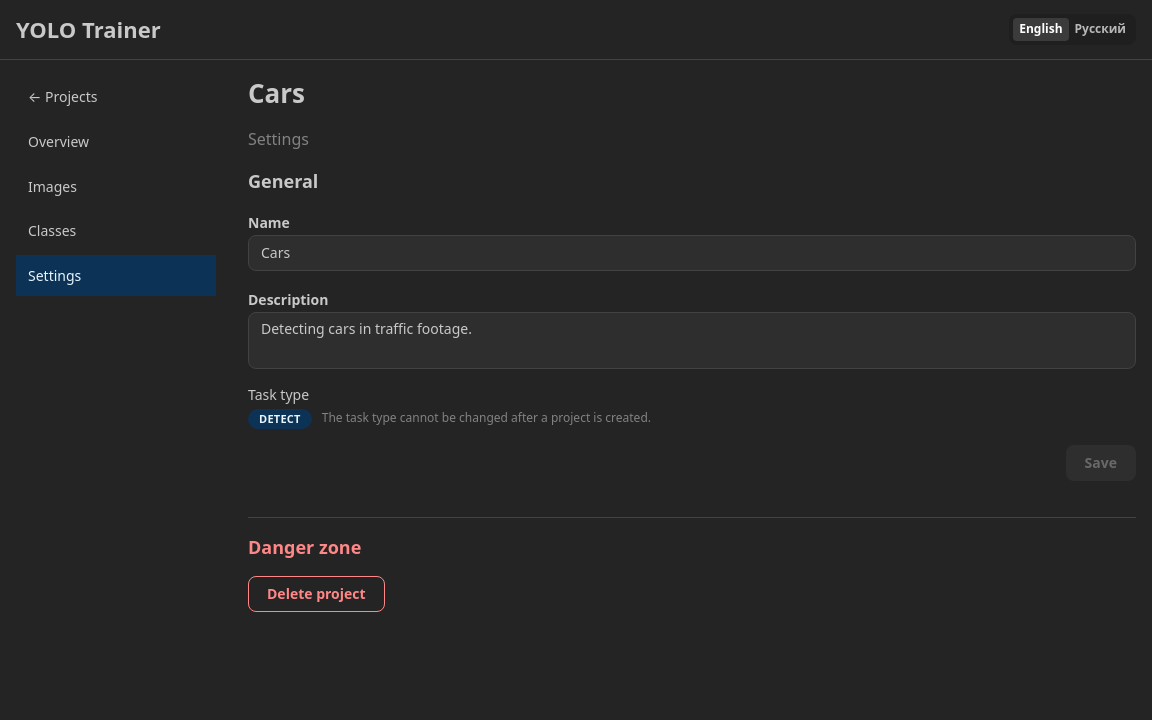
Test: ProjectSettingsPage › blocks submission with a translated message when the name is cleared
The image size is (1152, 720).
Clear the field labelled "Name" at point(692, 253), box [248,235,1136,271]
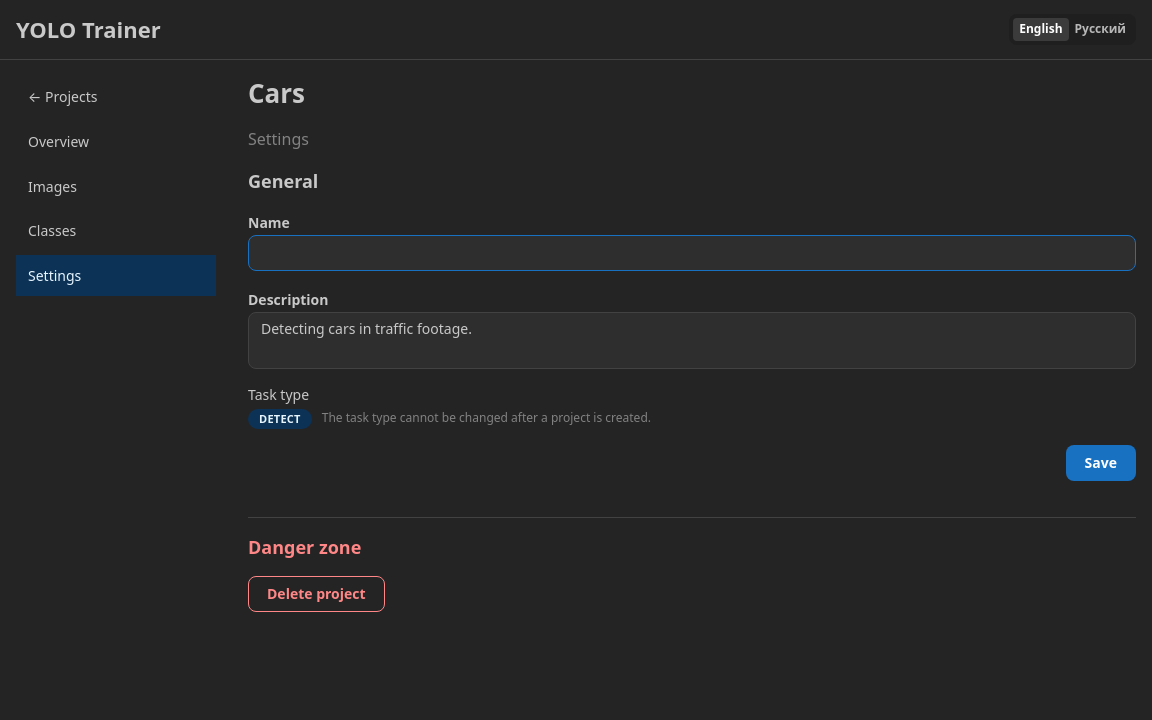
Click the button "Save" at point(1101, 463), box [1066,445,1136,481]
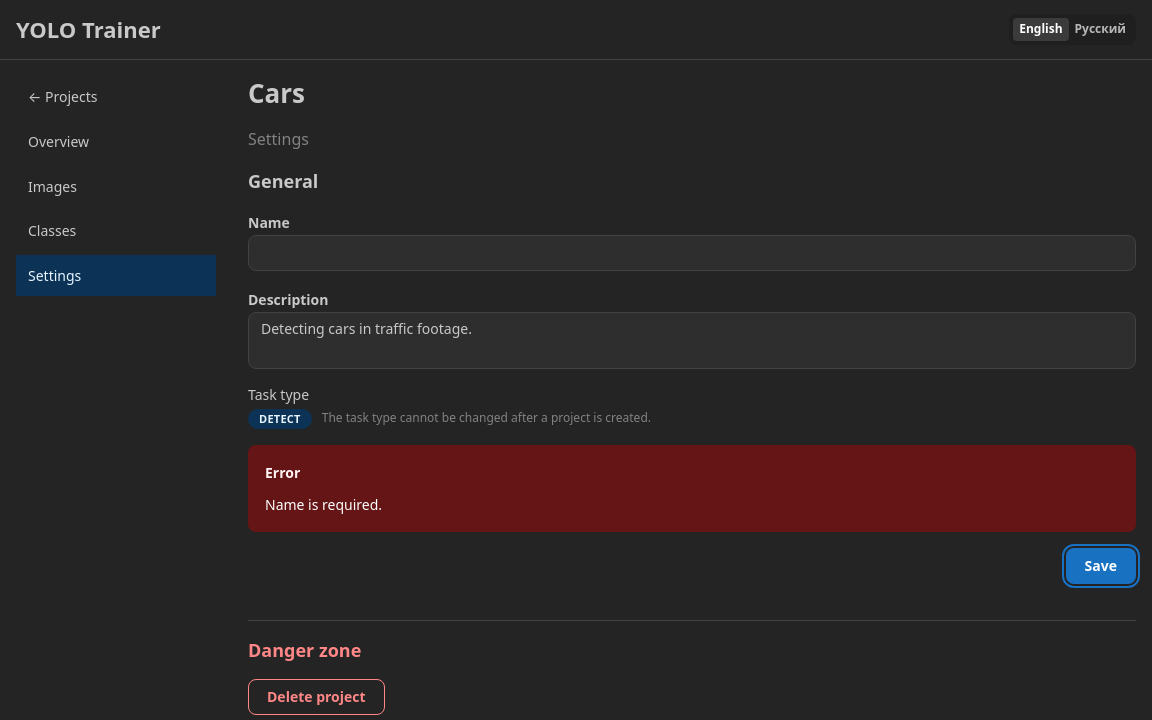
Expected: the text "Name is required." is shown, [265,495,382,514]
